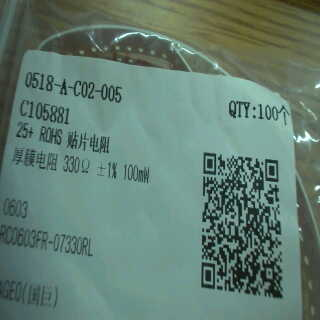330R: (62, 155, 91, 176)
